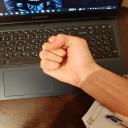Fist: (38, 31, 92, 86)
